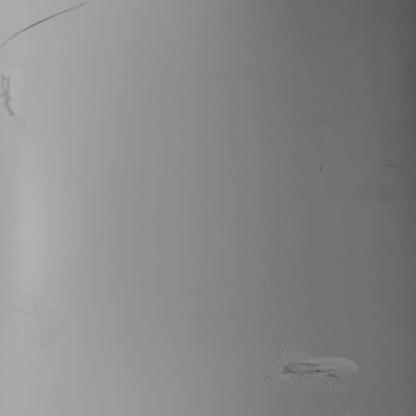sunshang: (272, 337, 359, 416), (1, 1, 91, 45), (1, 73, 34, 127)
